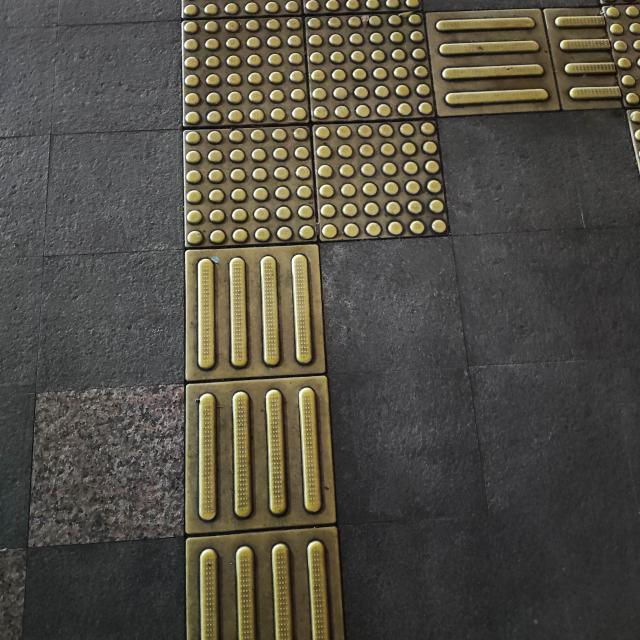kanan: (138, 0, 640, 326)
